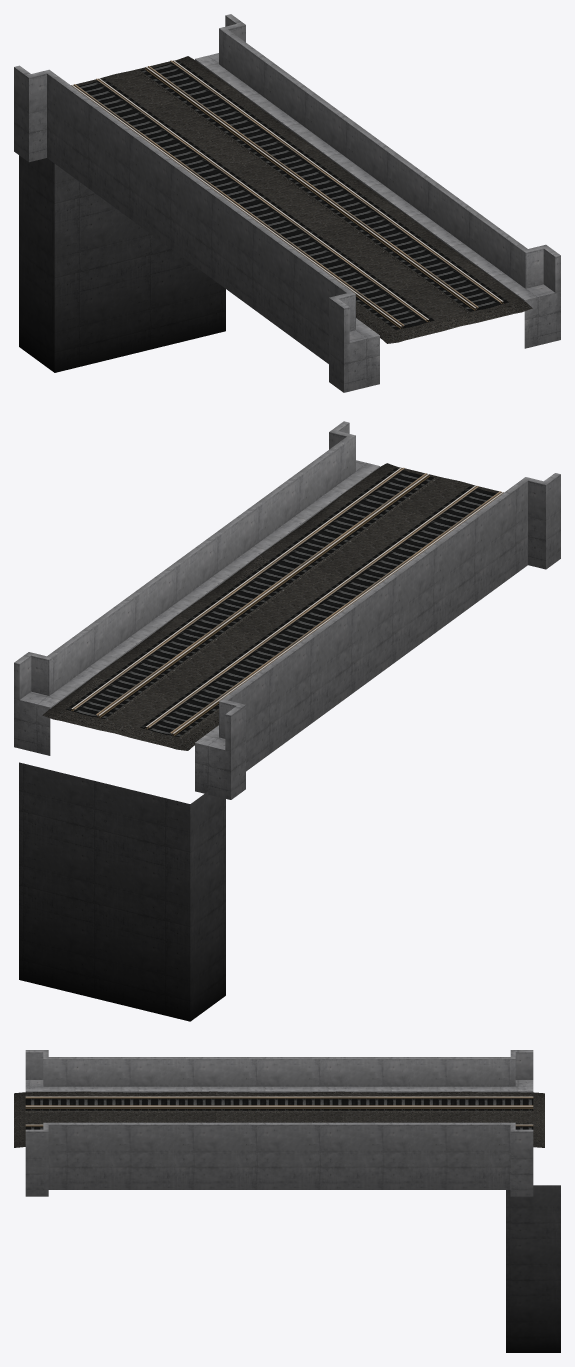
Rendered from KH_RAIL_KOUKA_100.glb.
3 views of the same model, one above another, from view 1: azimuth 30°, elevation 25°; view 2: azimuth 150°, elevation 25°; view 3: azimuth 270°, elevation 25° (orthographic). The views are drawn at different scales.
Parts seen in each view (by area): view 1: Jari_All; view 2: Jari_All; view 3: Jari_All.
Boxes of the visible parts, box(x1,y1,x2,y2) form: Jari_All: box(14, 14, 560, 392); Jari_All: box(14, 421, 560, 1021); Jari_All: box(14, 1050, 560, 1352).
Bounding box in the file's own units: 38 × 49.93 × 108.
5 materials, 4 textured.
